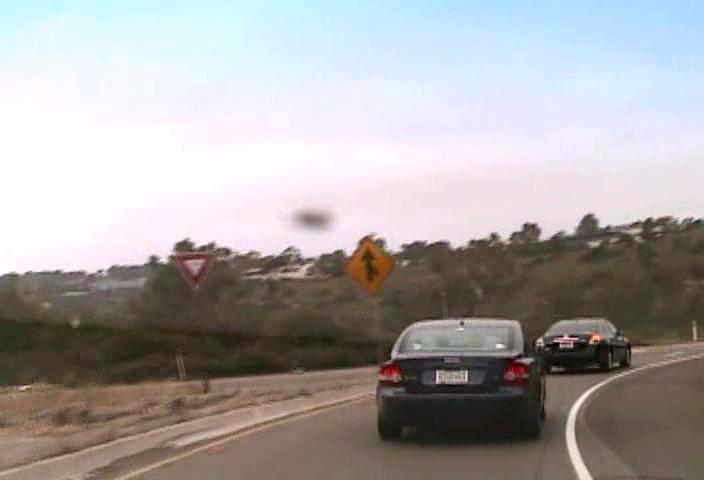yield: (168, 250, 215, 290)
